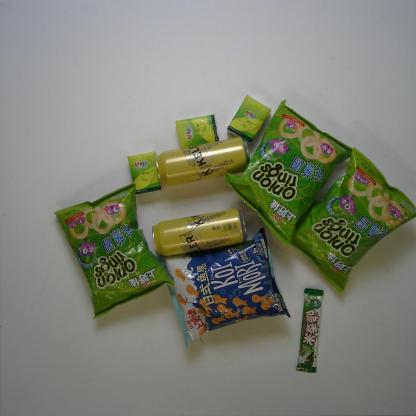Alcohol: (154, 135, 252, 187), (151, 207, 249, 257)
Chocolate: (295, 287, 325, 375)
Puffed Food: (222, 98, 355, 248), (288, 147, 416, 294), (155, 225, 291, 347), (53, 183, 174, 320)
Tissue: (224, 94, 274, 144), (174, 113, 221, 150), (126, 150, 163, 196)
